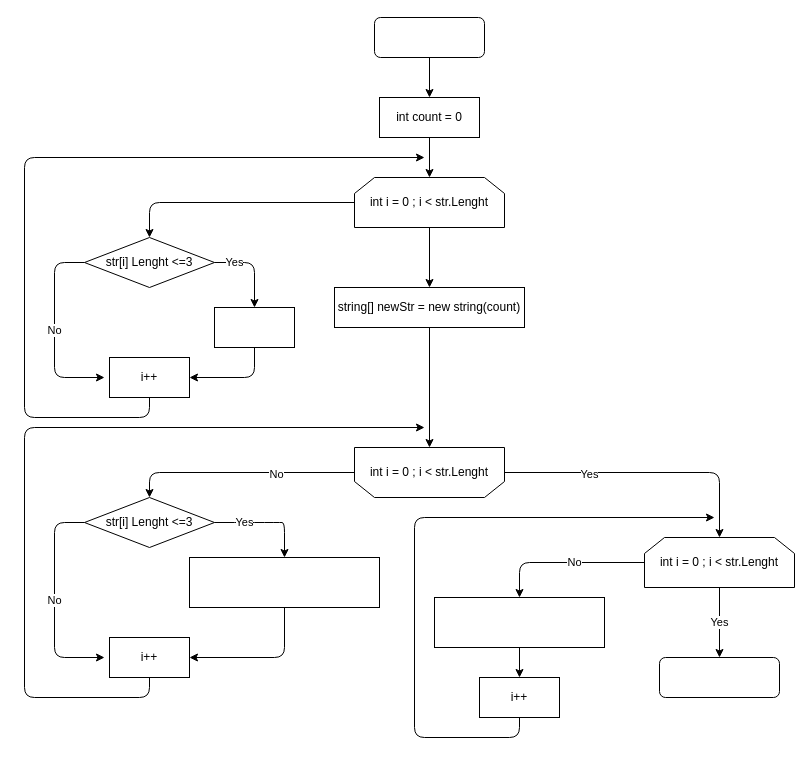
Some shapes in this 812 by 763 pixel diagram are drawn without their labels. The shapes that lost their labels are listed below. From the top down, each one's box as (x1, y1, x2, y2) in pixels, then its label:
(374, 16, 484, 58): Start
(214, 306, 294, 348): count++
(188, 556, 380, 608): newStr{newStrCounter] = str[i]; newStrCounter++
(434, 596, 604, 648): Console.Write(newStr[i] + " ")
(658, 656, 780, 698): Finish
